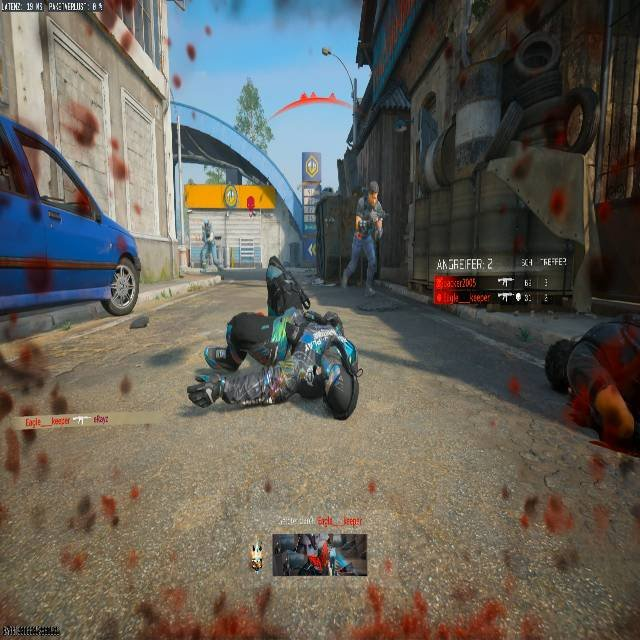head: (223, 311, 274, 362), (202, 218, 210, 226)
player: (350, 181, 386, 297), (198, 217, 219, 270), (246, 195, 255, 217)
